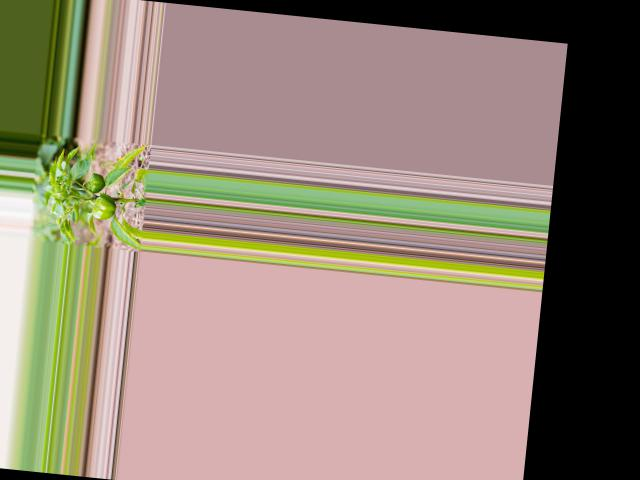bell_pepper: (85, 171, 107, 194)
